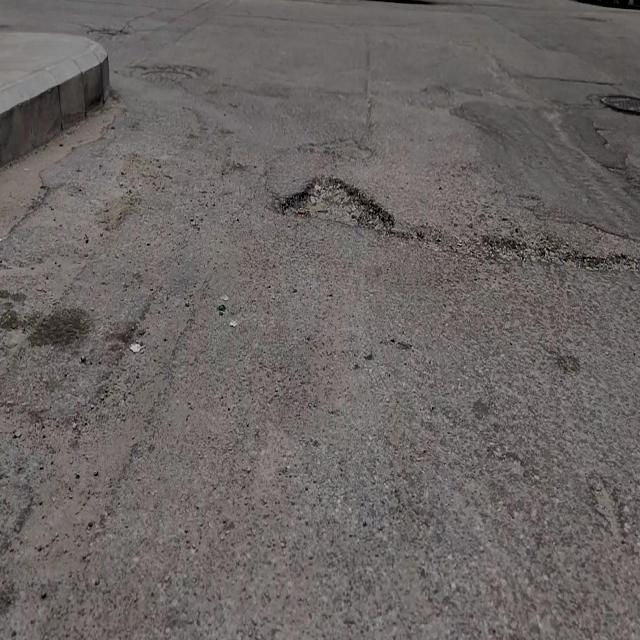Potholes: (284, 172, 395, 233)
